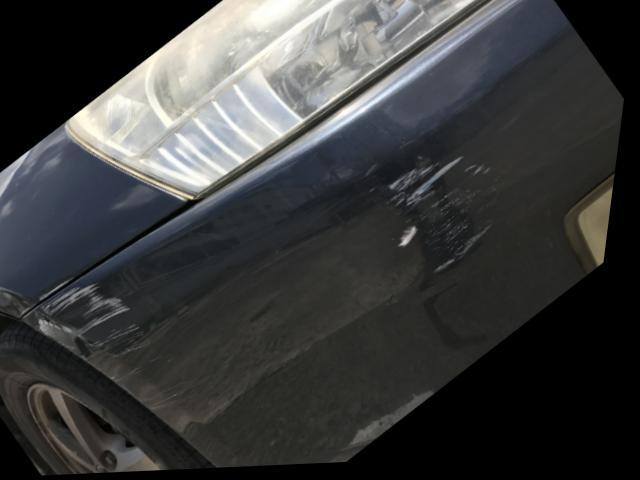scratch: (40, 283, 195, 414), (387, 163, 504, 284)
